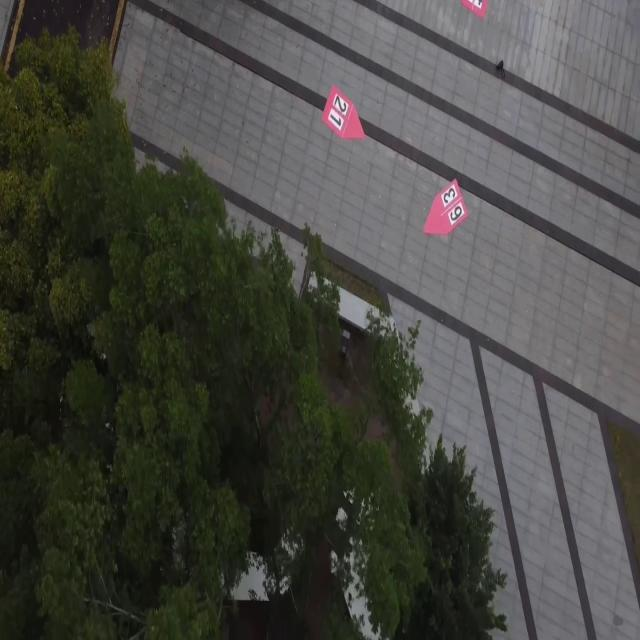-sign-: (422, 176, 468, 236), (321, 84, 365, 140), (459, 0, 487, 19)
